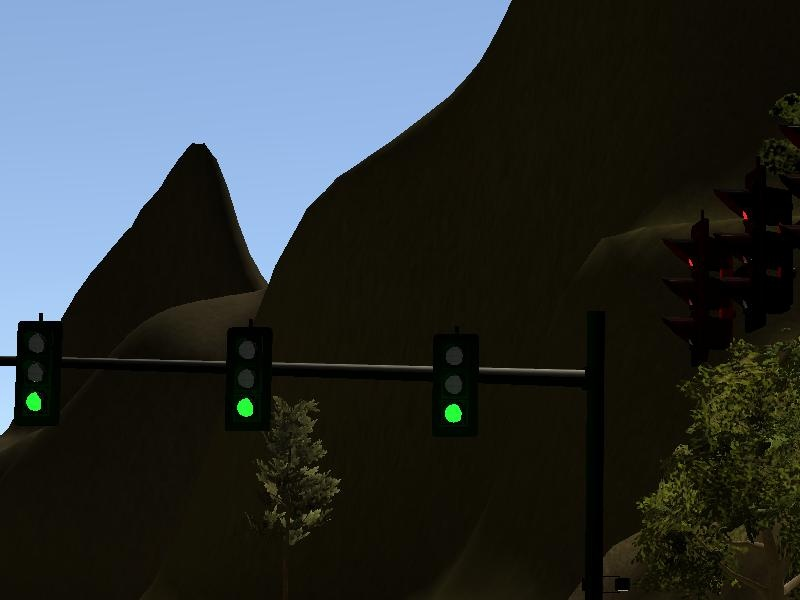GREEN: (12, 319, 62, 425), (223, 324, 273, 430), (428, 332, 478, 438)
